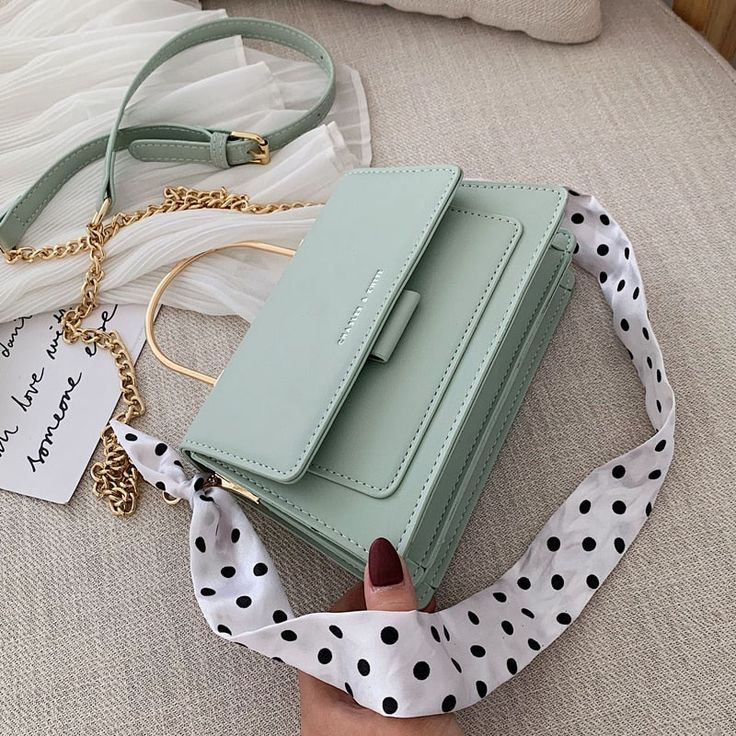cuero: (1, 18, 579, 610)
